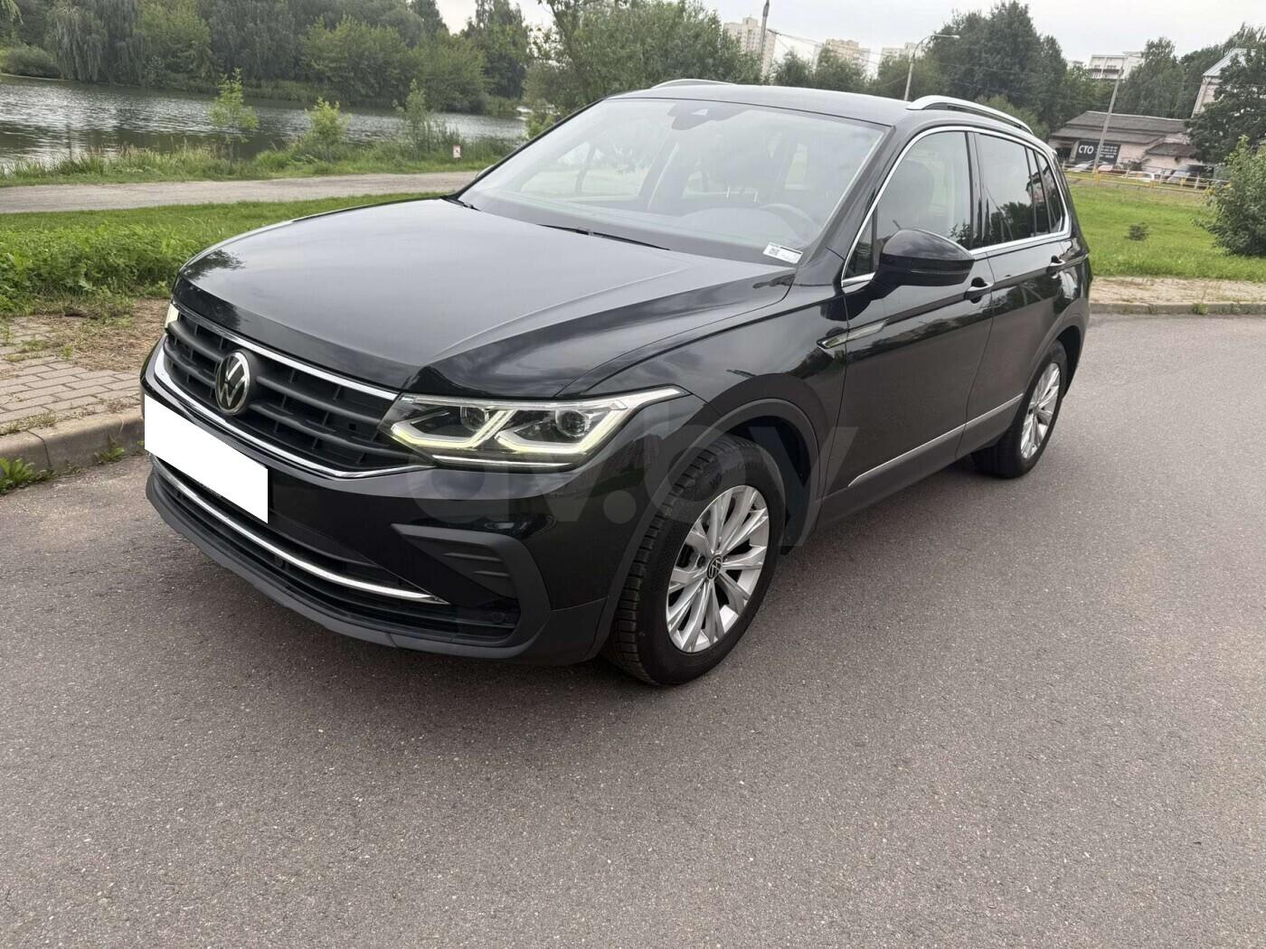Tiguan_2020-2024: (134, 81, 1093, 688)
